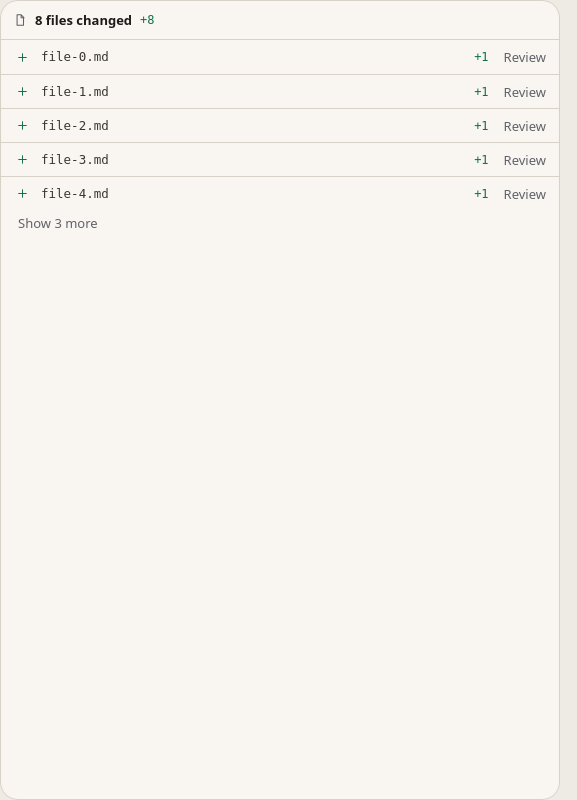
Test case: the files a turn changed › lists five files and the rest on request
Expected: the number of list items is 5, [1, 40, 559, 74]; [1, 74, 559, 108]; [1, 108, 559, 142]; [1, 142, 559, 176]; [1, 176, 559, 210]
Click the button "Show 3 more" at (58, 223), box [13, 210, 103, 236]
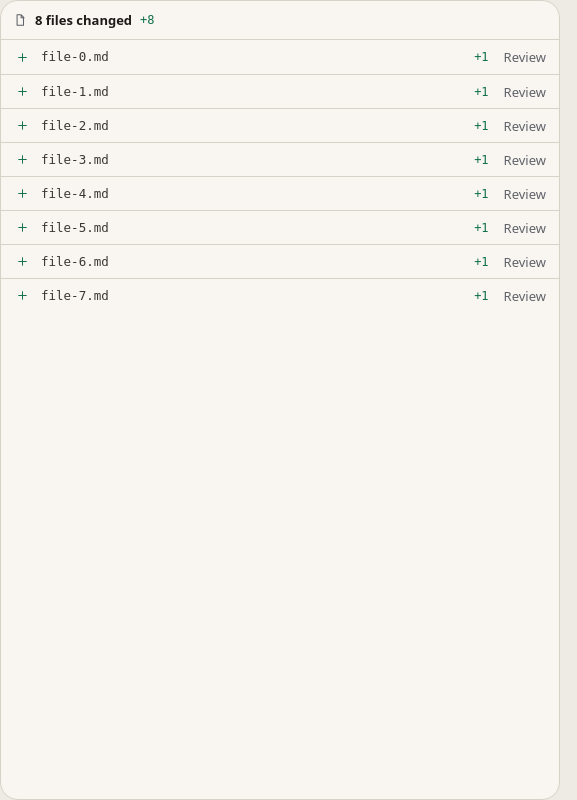
Expected: the number of list items is 8
